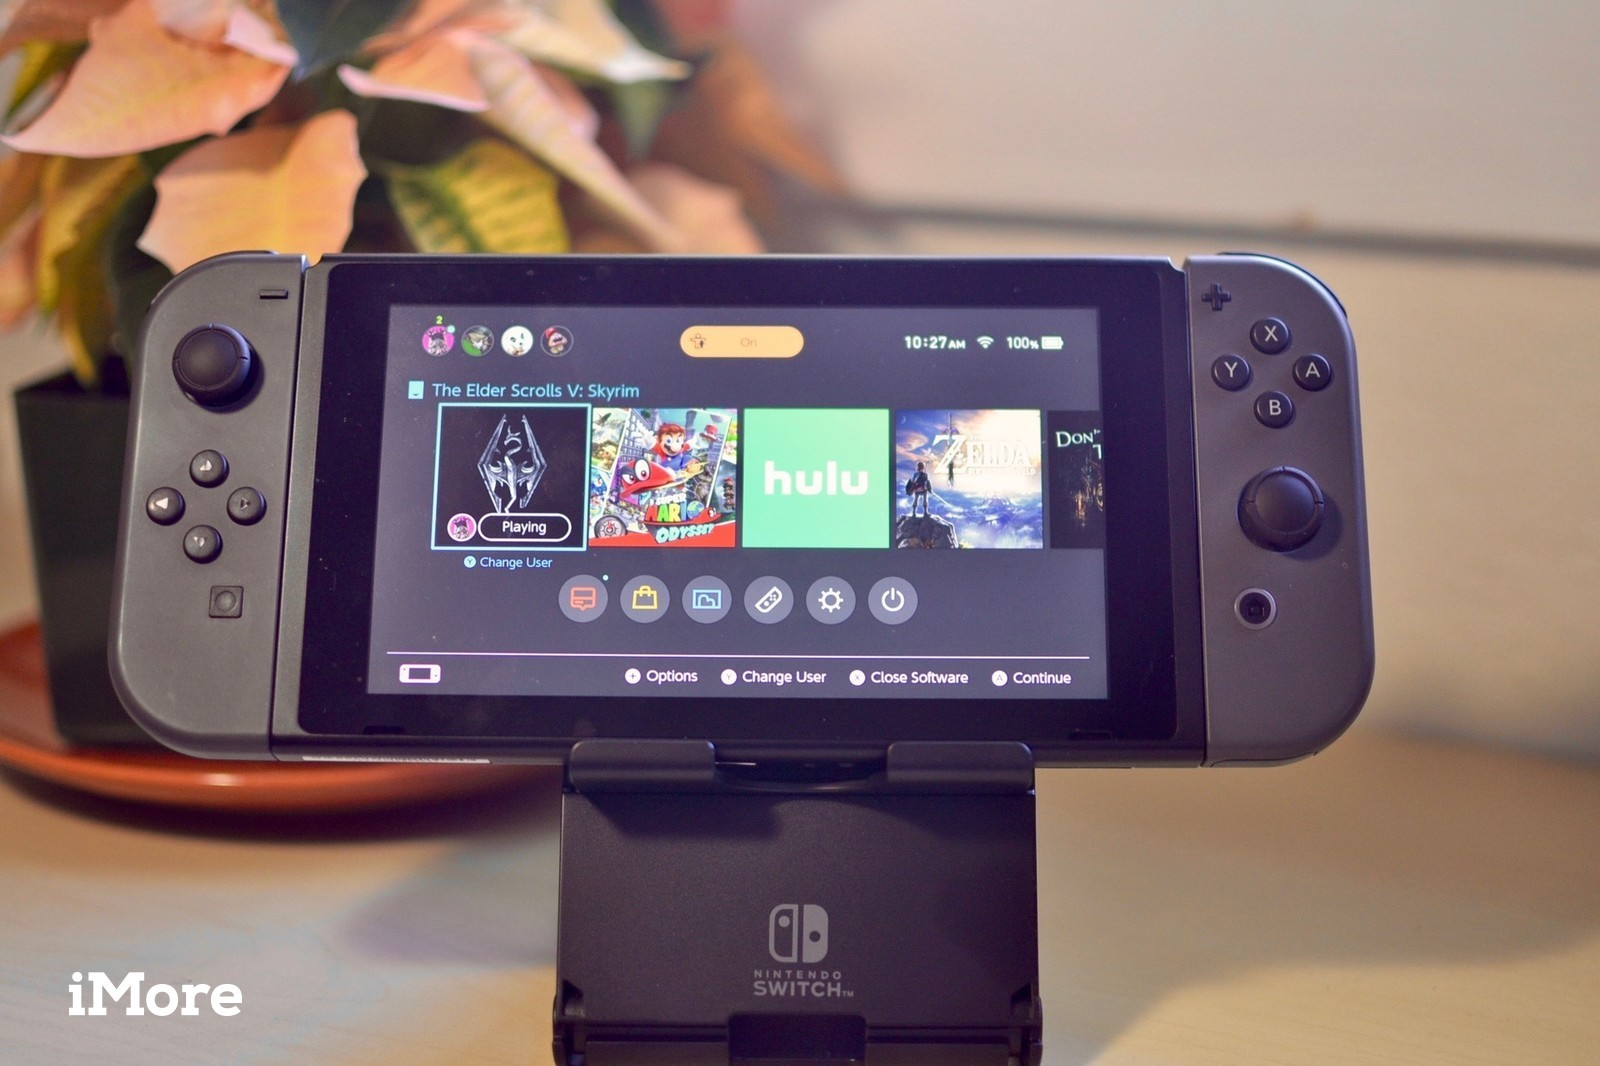NintendoSwitch: (101, 243, 1399, 782)
